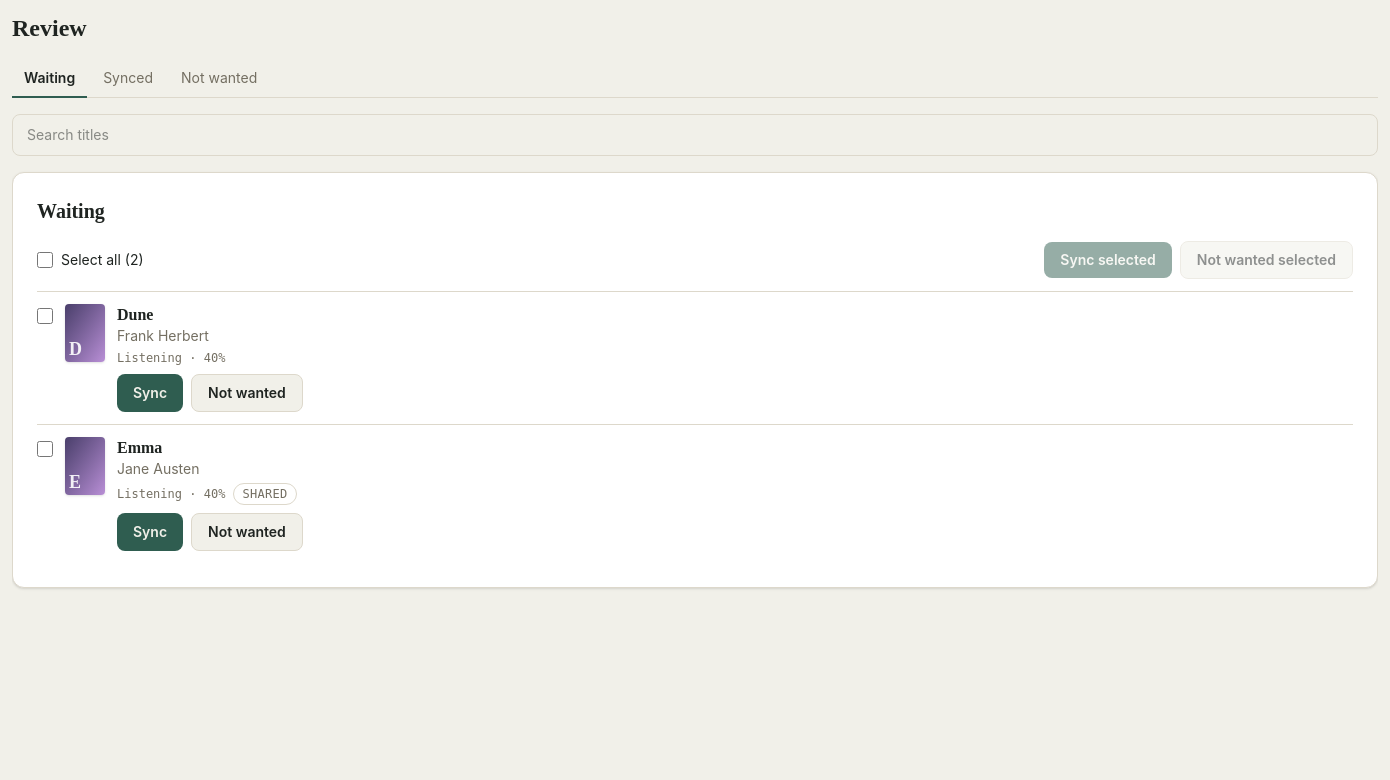
Test: ReviewPage › keeps the book when the dialog is cancelled
Later steps or results of the test are not shown.
Click the tab "Synced": (128, 79) [91,60,165,98]
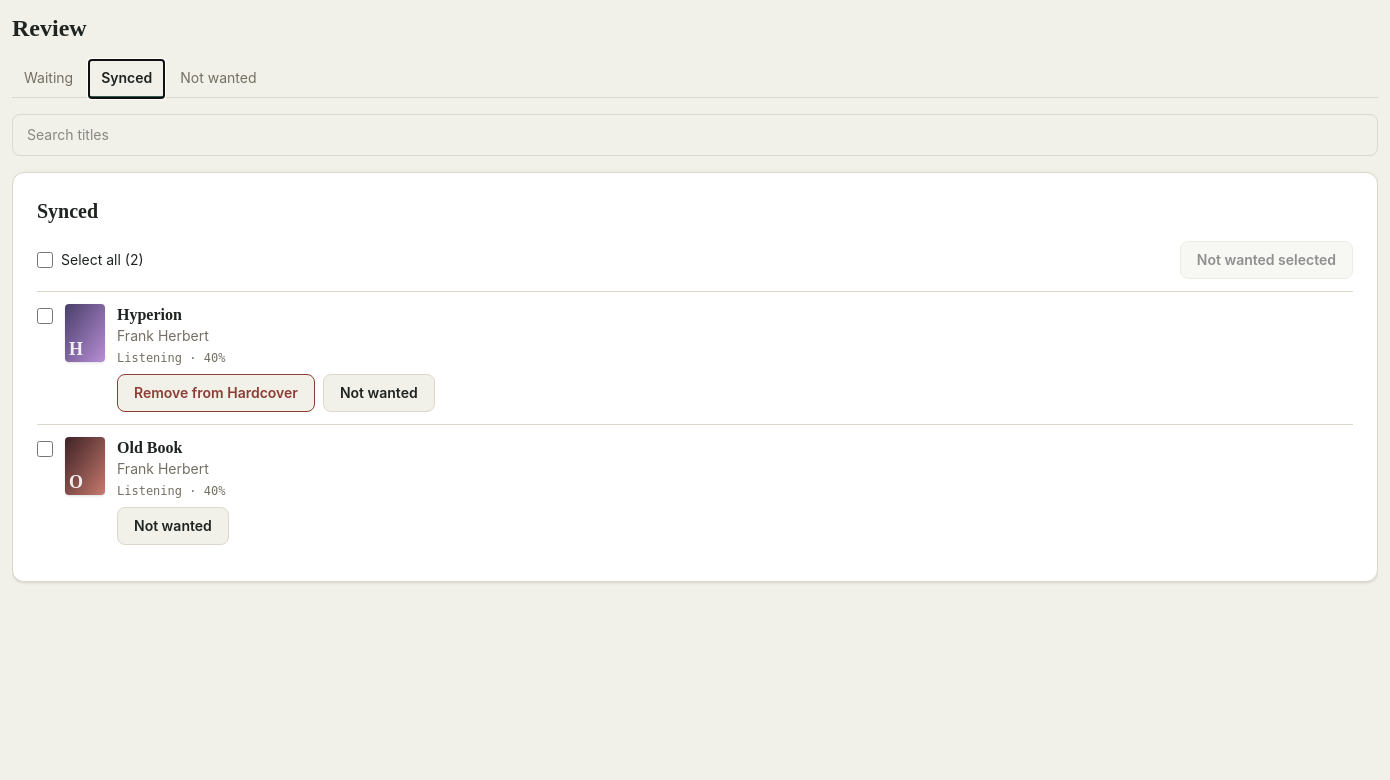
Now the text "Hyperion" is shown, box [117,306,182,323]
